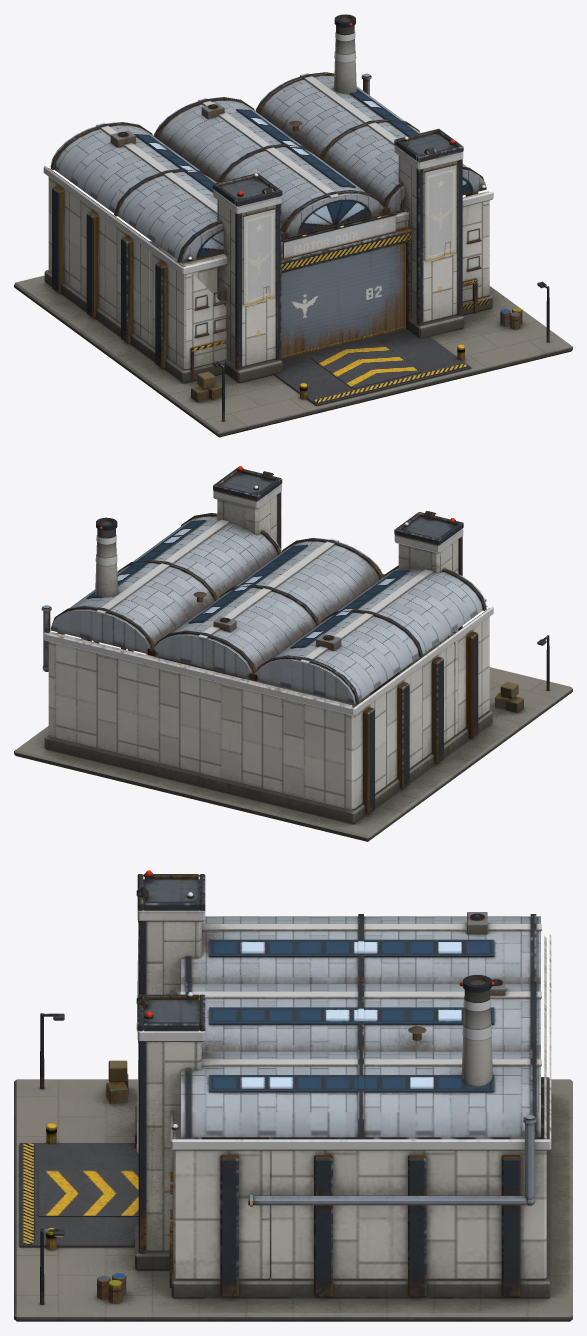
Rendered from weap.allies.glb.
3 renders of one model, top to bottom at view 1: azimuth 30°, elevation 25°; view 2: azimuth 150°, elevation 25°; view 3: azimuth 270°, elevation 25°, orthographic. The views are drawn at different scales.
Parts seen in each view (by area): view 1: root_mesh, door_mesh; view 2: root_mesh; view 3: root_mesh.
Boxes of the visible parts, box(x1,y1,x2,y2) form: root_mesh: box(14, 14, 572, 437); door_mesh: box(280, 243, 406, 359); root_mesh: box(14, 466, 572, 841); root_mesh: box(14, 870, 572, 1321).
Bounding box in the file's own units: 2.98 × 1.78 × 2.98.
Materials: 2 (1 with a texture image).
